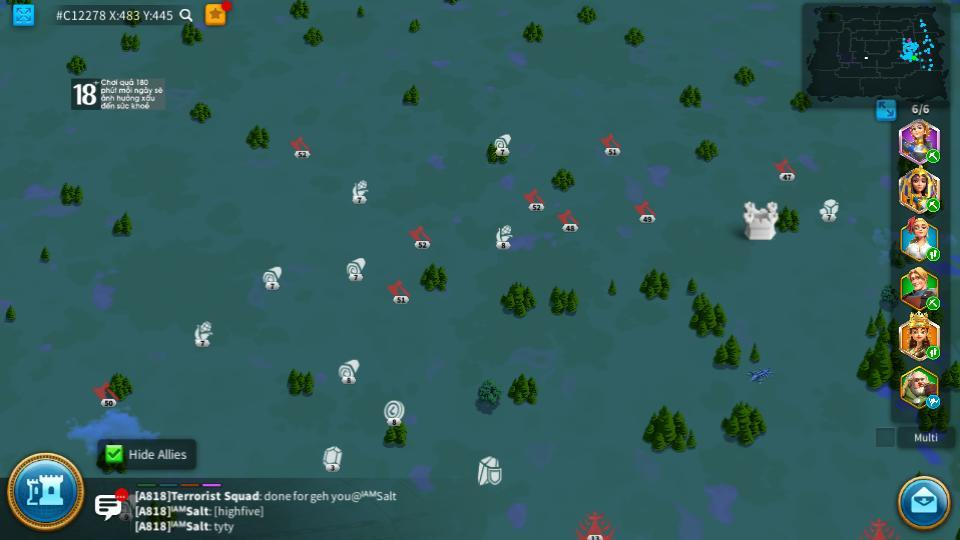gem-z-out: (320, 445, 343, 470)
march_idle: (925, 396, 942, 408)
march_marching: (925, 197, 941, 212), (925, 345, 941, 359), (925, 150, 942, 162), (926, 297, 941, 308)
